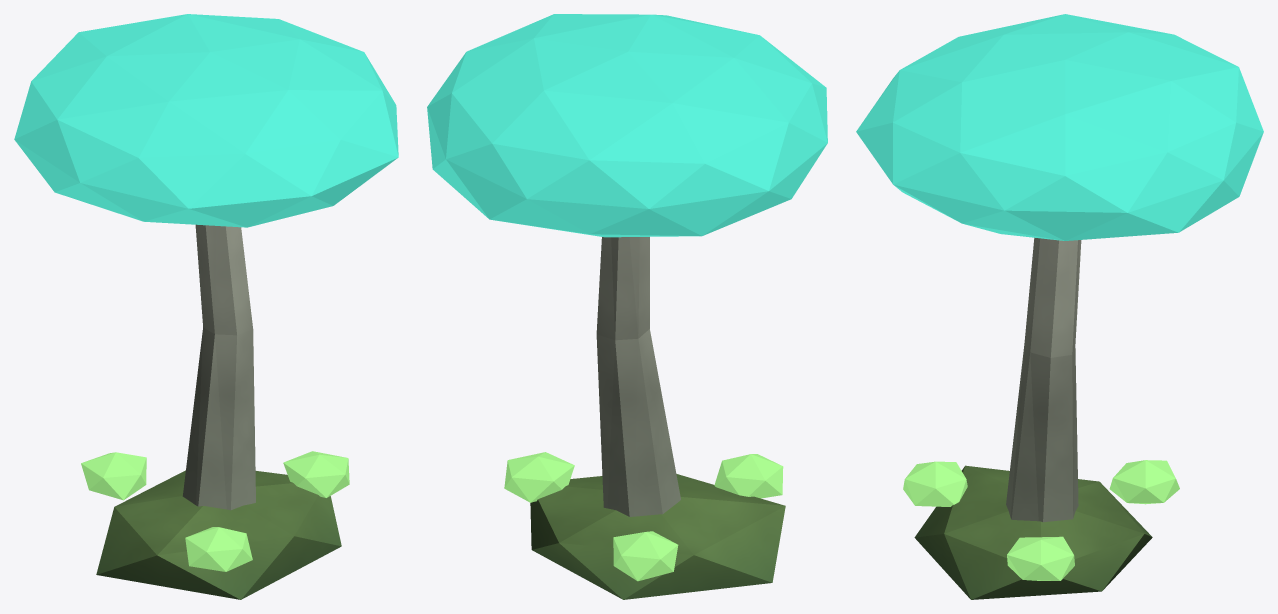
The model's file is glow_mushroom_tall.glb.
3 views of the same model, side by side, from view 1: azimuth 30°, elevation 25°; view 2: azimuth 150°, elevation 25°; view 3: azimuth 270°, elevation 25° (orthographic). The views are drawn at different scales.
Parts seen in each view (by area): view 1: glow_mushroom_tall; view 2: glow_mushroom_tall; view 3: glow_mushroom_tall.
Part boxes in pixels (left/top/right/bottom): glow_mushroom_tall: left=14, top=14, right=398, bottom=599; glow_mushroom_tall: left=427, top=14, right=827, bottom=599; glow_mushroom_tall: left=856, top=14, right=1263, bottom=599.
Bounding box in the file's own units: 1.61 × 2.37 × 1.69.
2 materials, 2 textured.
